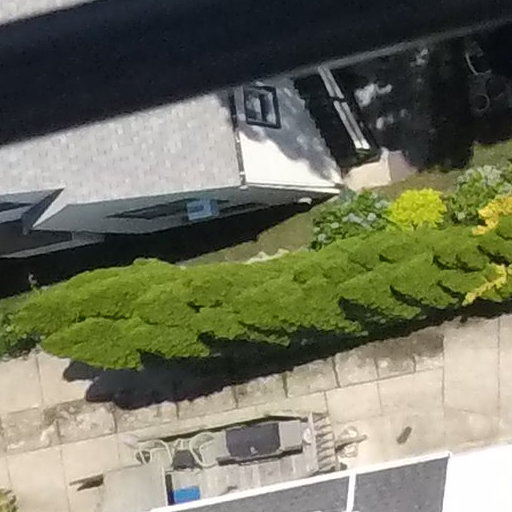container: (465, 89, 494, 117)
porch: (130, 397, 366, 505)
